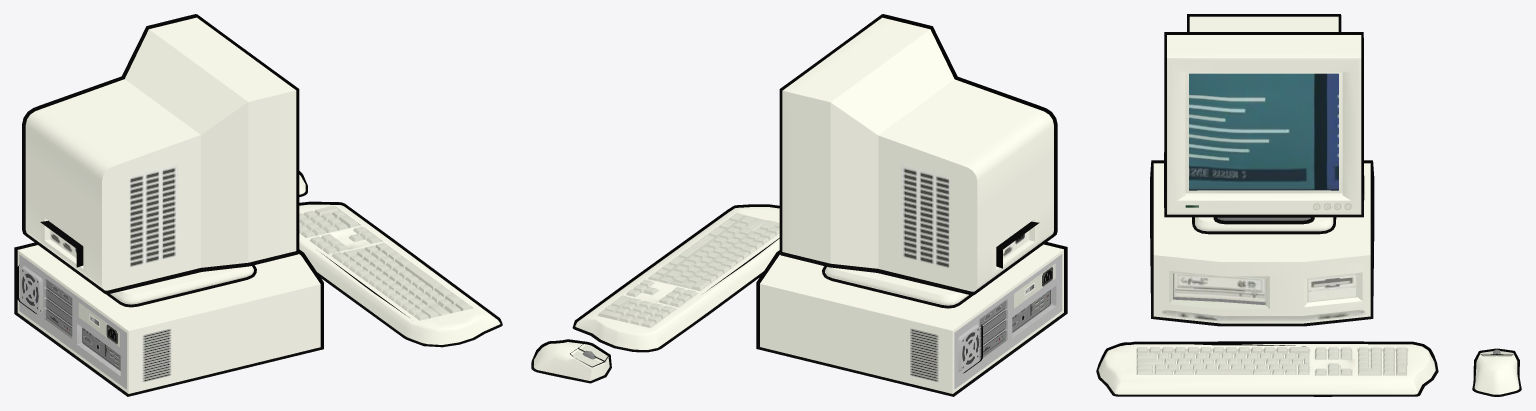
File: retro_pc_desktop.glb
3 renders of one model, left to right at view 1: azimuth 30°, elevation 25°; view 2: azimuth 150°, elevation 25°; view 3: azimuth 270°, elevation 25°, orthographic. The views are drawn at different scales.
Visible parts, largest first — view 1: desktop_mac_0, desktop_outline_mac_outline_0; view 2: desktop_mac_0, desktop_outline_mac_outline_0; view 3: desktop_mac_0, desktop_outline_mac_outline_0.
Part boxes in pixels (x1,y1,x2,y2): desktop_mac_0: [17, 17, 500, 393]; desktop_outline_mac_outline_0: [14, 14, 502, 396]; desktop_mac_0: [533, 17, 1063, 393]; desktop_outline_mac_outline_0: [531, 14, 1067, 396]; desktop_mac_0: [1098, 16, 1519, 394]; desktop_outline_mac_outline_0: [1096, 14, 1521, 396].
Bounding box in the file's own units: 3.84 × 2.62 × 3.93.
2 materials, 1 textured.
